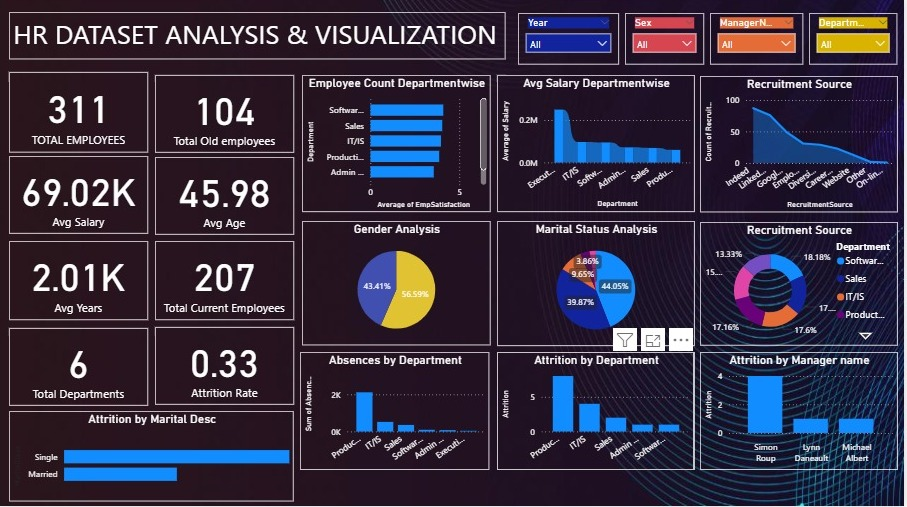

The page's visual inventory and layout, read from the dashboard file:
{"tool":"powerbi","page":{"name":"Page 1","canvas":[1280,720],"ordinal":0},"visuals":[{"type":"textbox","box":[13.3,21.7,703.3,66.7],"z":0},{"type":"card","fields":{"Values":["AllEmployees.Total Employees"]},"box":[12.9,105.7,197.1,114.3],"z":1000},{"type":"card","fields":{"Values":["AllEmployees.Avg Years"]},"box":[13.3,345,196.7,111.7],"z":2000},{"type":"card","fields":{"Values":["AllEmployees.Avg Age"]},"box":[220,226.7,196.7,110],"z":3000},{"type":"card","fields":{"Values":["AllEmployees.Total Old employees"]},"box":[220,110,196.7,110],"z":4000},{"type":"card","fields":{"Values":["AllEmployees.Avg Salary"]},"box":[13.3,225,196.7,110],"z":5000},{"type":"card","fields":{"Values":["AllEmployees.Total Current Employees"]},"box":[220,345,196.7,111.7],"z":6000},{"type":"card","fields":{"Values":["AllEmployees.Total Departments"]},"box":[13.3,468.3,196.7,110],"z":7000},{"type":"card","fields":{"Values":["AllEmployees.Attrition Rate"]},"box":[220,466.7,196.7,110],"z":8000},{"type":"clusteredBarChart","title":"Employee Count Departmentwise","fields":{"Category":["AllEmployees.Department"],"Y":["AllEmployees.EmpSatisfaction"]},"box":[427.1,110,267.1,194.3],"z":9000},{"type":"pieChart","title":"Gender Analysis","fields":{"Category":["AllEmployees.Sex"],"Y":["AllEmployees.Sex"]},"box":[427.1,317.1,267.1,175.7],"z":10000},{"type":"pieChart","title":"Marital Status Analysis","fields":{"Category":["AllEmployees.MaritalDesc"],"Y":["AllEmployees.MaritalDesc"]},"box":[703.3,316.7,280,176.7],"z":11000},{"type":"ribbonChart","title":"Avg Salary Departmentwise","fields":{"Category":["AllEmployees.Department"],"Y":["AllEmployees.Salary"]},"box":[704,110,280,194],"z":12000},{"type":"clusteredColumnChart","title":"Absences by Department","fields":{"Category":["AllEmployees.Department"],"Y":["AllEmployees.Absences"]},"box":[425,503.3,268.3,166.7],"z":13000},{"type":"stackedAreaChart","title":"Recruitment Source","fields":{"Category":["AllEmployees.RecruitmentSource"],"Y":["AllEmployees.RecruitmentSource"]},"box":[991.7,111.7,280,193.3],"z":14000},{"type":"donutChart","title":"Recruitment Source","fields":{"Y":["AllEmployees.EmpSatisfaction"],"Category":["AllEmployees.Department"]},"box":[991.7,318.3,280,175],"z":15000},{"type":"columnChart","title":"Attrition by Department","fields":{"Category":["AllEmployees.Department"],"Y":["AllEmployees.Attrition"]},"box":[703.3,503.3,280,166.7],"z":16000},{"type":"columnChart","title":"Attrition by Manager name","fields":{"Category":["AllEmployees.ManagerName"],"Y":["AllEmployees.Attrition"]},"box":[991.7,503.3,280,166.7],"z":17000},{"type":"barChart","title":"Attrition by Marital Desc","fields":{"Category":["AllEmployees.MaritalDesc"],"Y":["AllEmployees.Attrition"]},"box":[13.3,586.7,403.3,128.3],"z":18000},{"type":"slicer","title":"Recruitment Source","fields":{"Values":["AllEmployees.Year"]},"box":[733.3,23.3,143.3,73.3],"z":19000},{"type":"slicer","title":"Recruitment Source","fields":{"Values":["AllEmployees.Sex"]},"box":[885,23.3,111.7,73.3],"z":20000},{"type":"slicer","title":"Recruitment Source","fields":{"Values":["AllEmployees.Department"]},"box":[1145,23.3,125,73.3],"z":21000},{"type":"slicer","title":"Recruitment Source","fields":{"Values":["AllEmployees.ManagerName"]},"box":[1005,23.3,131.7,73.3],"z":22000}]}

Visuals, with their boxes in screenshot pixels (x1, y1, x2, y2), scaled from the page's 1280x720 canvas onto the 907x507 screenshot:
textbox: (9,15,508,62)
card - AllEmployees.Total Employees: (9,74,149,155)
card - AllEmployees.Avg Years: (9,243,149,322)
card - AllEmployees.Avg Age: (156,160,295,237)
card - AllEmployees.Total Old employees: (156,77,295,155)
card - AllEmployees.Avg Salary: (9,158,149,236)
card - AllEmployees.Total Current Employees: (156,243,295,322)
card - AllEmployees.Total Departments: (9,330,149,407)
card - AllEmployees.Attrition Rate: (156,329,295,406)
"Employee Count Departmentwise" clusteredBarChart: (303,77,492,214)
"Gender Analysis" pieChart: (303,223,492,347)
"Marital Status Analysis" pieChart: (498,223,697,347)
"Avg Salary Departmentwise" ribbonChart: (499,77,697,214)
"Absences by Department" clusteredColumnChart: (301,354,491,472)
"Recruitment Source" stackedAreaChart: (703,79,901,215)
"Recruitment Source" donutChart: (703,224,901,347)
"Attrition by Department" columnChart: (498,354,697,472)
"Attrition by Manager name" columnChart: (703,354,901,472)
"Attrition by Marital Desc" barChart: (9,413,295,503)
"Recruitment Source" slicer: (520,16,621,68)
"Recruitment Source" slicer: (627,16,706,68)
"Recruitment Source" slicer: (811,16,900,68)
"Recruitment Source" slicer: (712,16,805,68)
